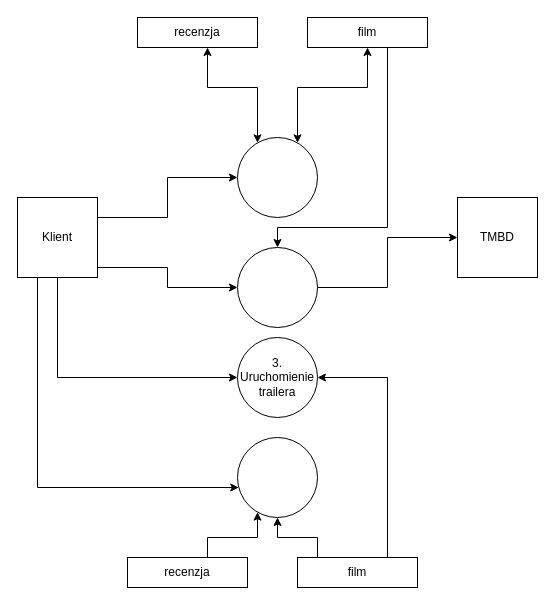
This 555x605 diagram has some shape labels left out. Here are the shapes that lost their labels. From the top down, the box of each, then its label:
(236, 136, 318, 218): 1. Wystawienie Recenzji
(236, 246, 318, 328): 2. Dodanie filmu
(236, 436, 318, 518): 4. Wyświetlenie recenzji filmu
